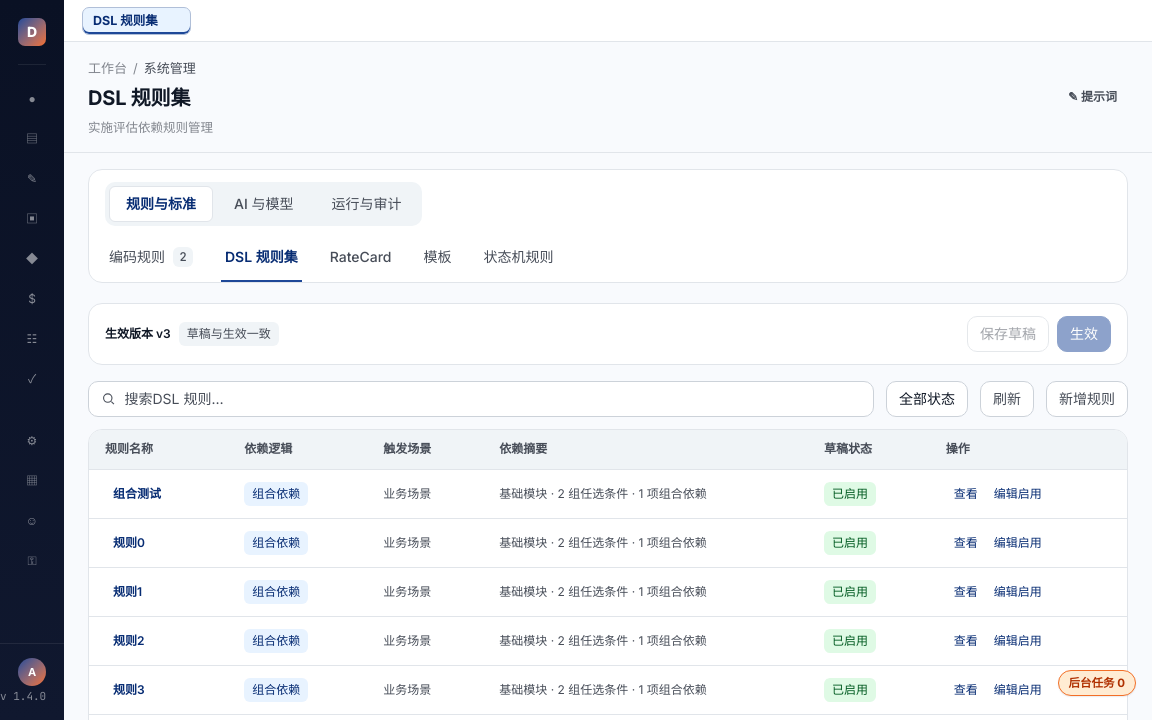
Scenario: DSL 规则统一列表 › 完整条件留在详情，列表可搜索备注和分页到最后记录
The image size is (1152, 720).
Click the button with aria-label "查看 组合测试". click: (966, 494)
box: x1=946 y1=478 x2=986 y2=510
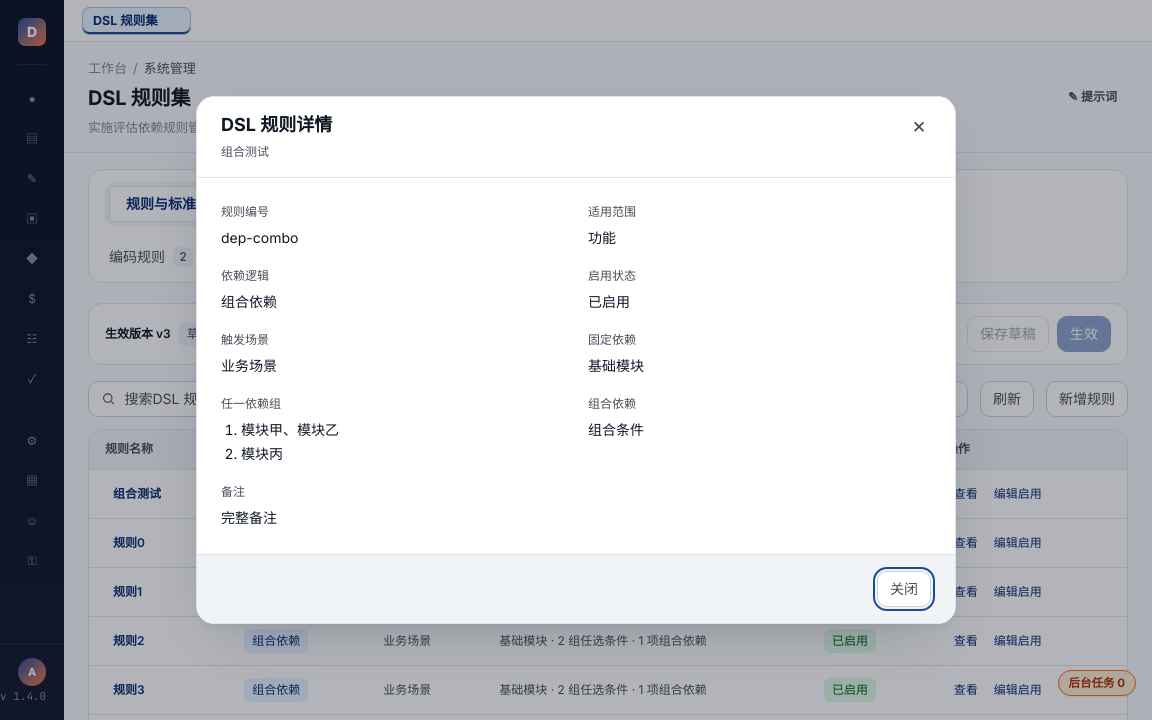
Expected: the list item "模块甲、模块乙" is shown, x1=241 y1=421 x2=339 y2=438
Expected: the list item "模块丙" is shown, x1=241 y1=445 x2=283 y2=462
Expected: the text "组合条件" is shown, x1=588 y1=421 x2=644 y2=438
Click the button "关闭". click: (904, 589)
box: x1=877 y1=571 x2=931 y2=607
(page scrolled)
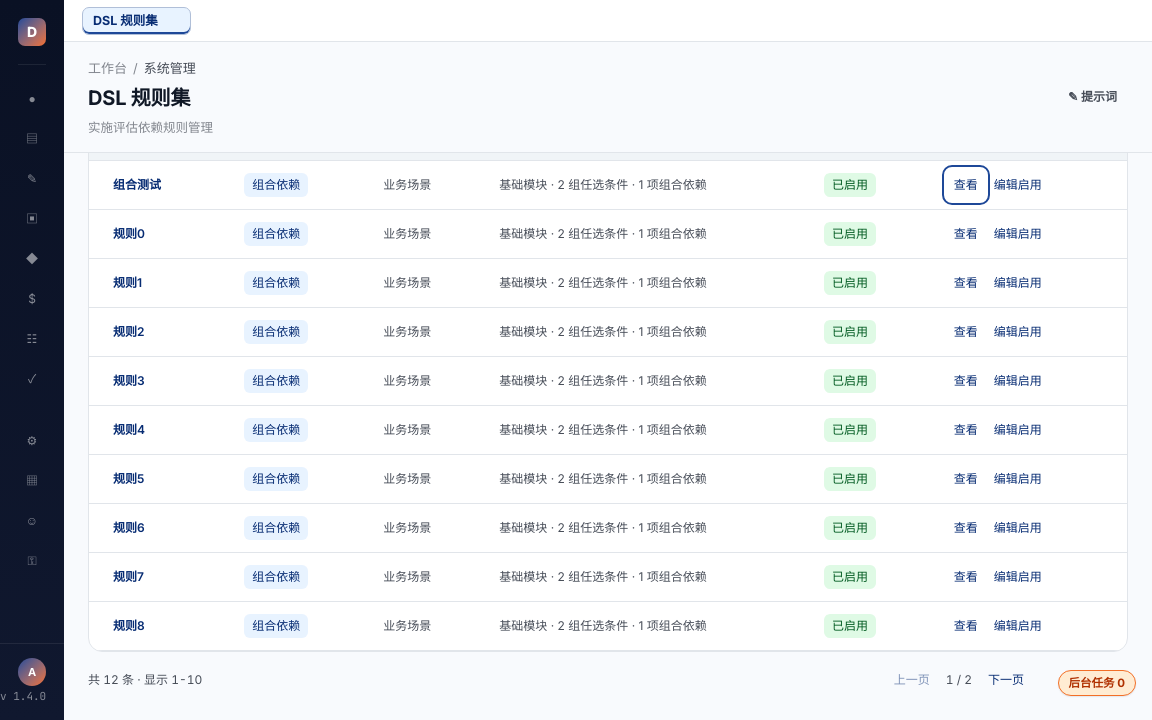
Click the button "下一页". click: (1006, 680)
box: x1=980 y1=664 x2=1032 y2=696
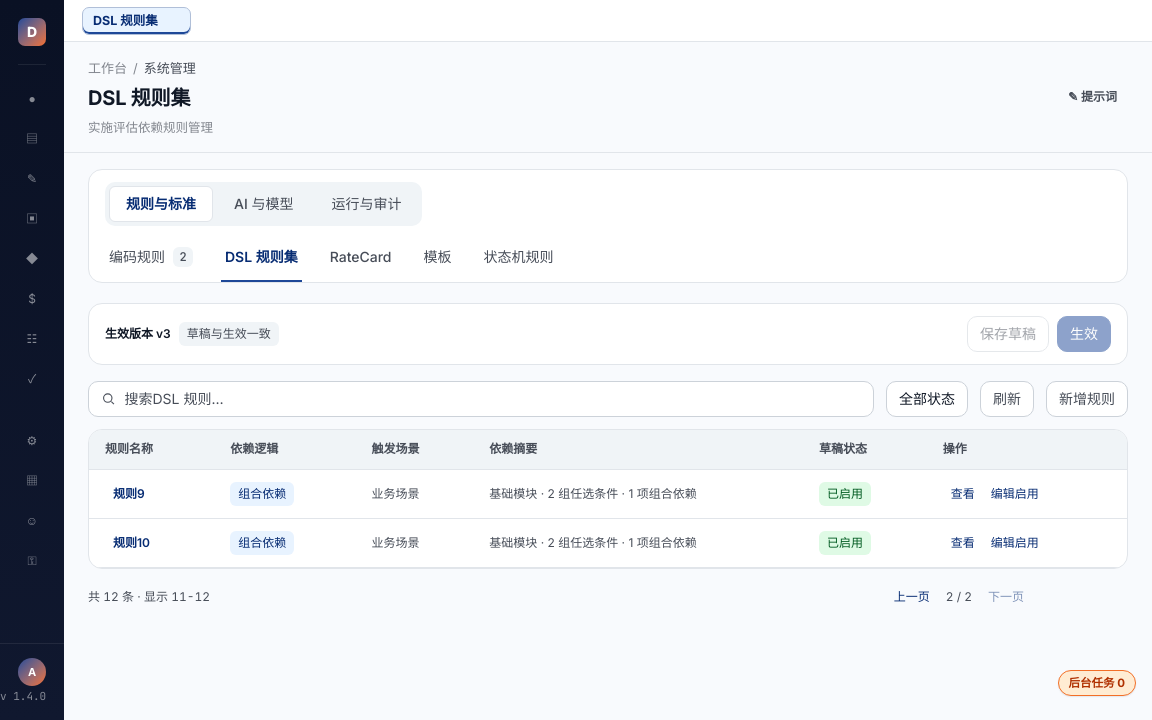
Expected: the button "规则10" is shown, x1=105 y1=527 x2=158 y2=559
Type "完整备注" into the search field labelled "搜索DSL 规则". click: (493, 398)
box: x1=124 y1=382 x2=861 y2=416
(page scrolled)
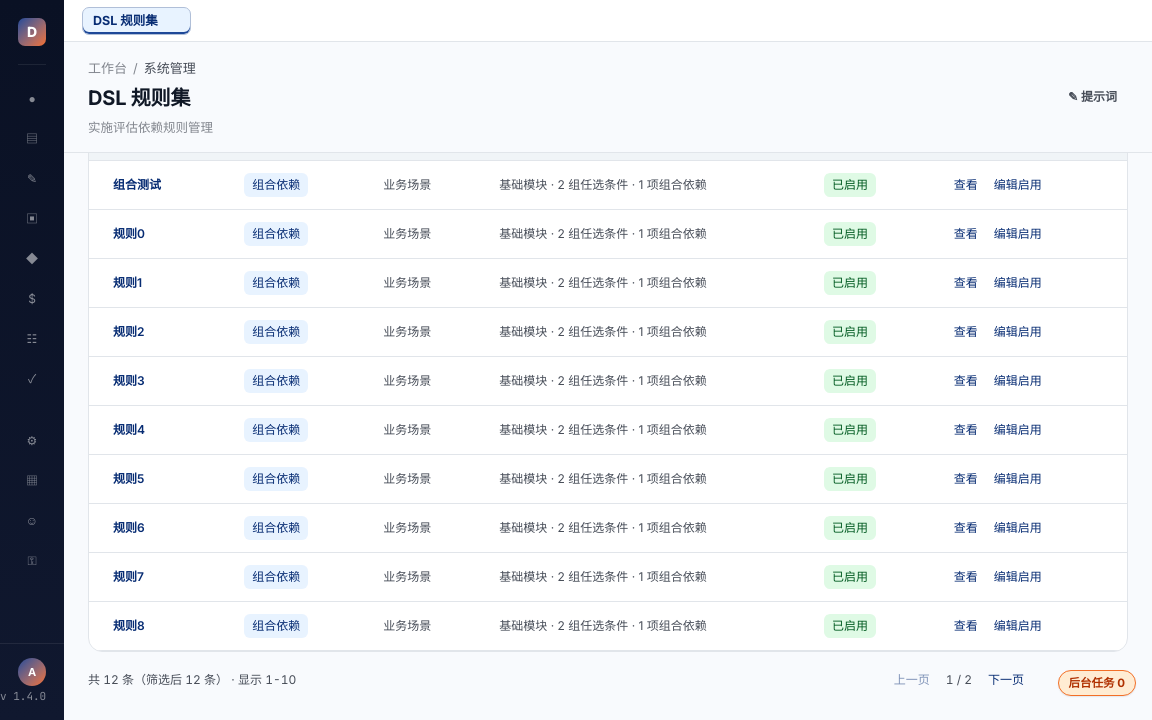
Expected: the button "上一页" is disabled, x1=886 y1=664 x2=938 y2=696
